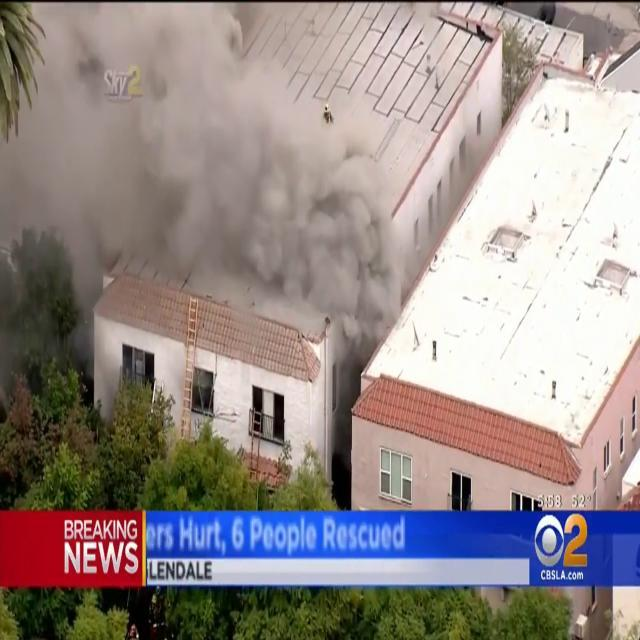Smoke: (1, 4, 282, 396), (290, 115, 404, 462)
